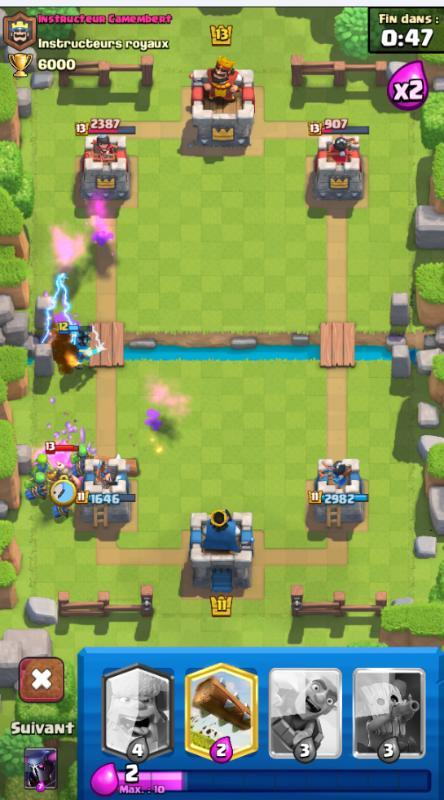enemy_electro_wizard: (57, 318, 112, 366)
player_spear_goblins: (23, 470, 52, 503), (72, 441, 93, 474), (50, 505, 77, 520)
